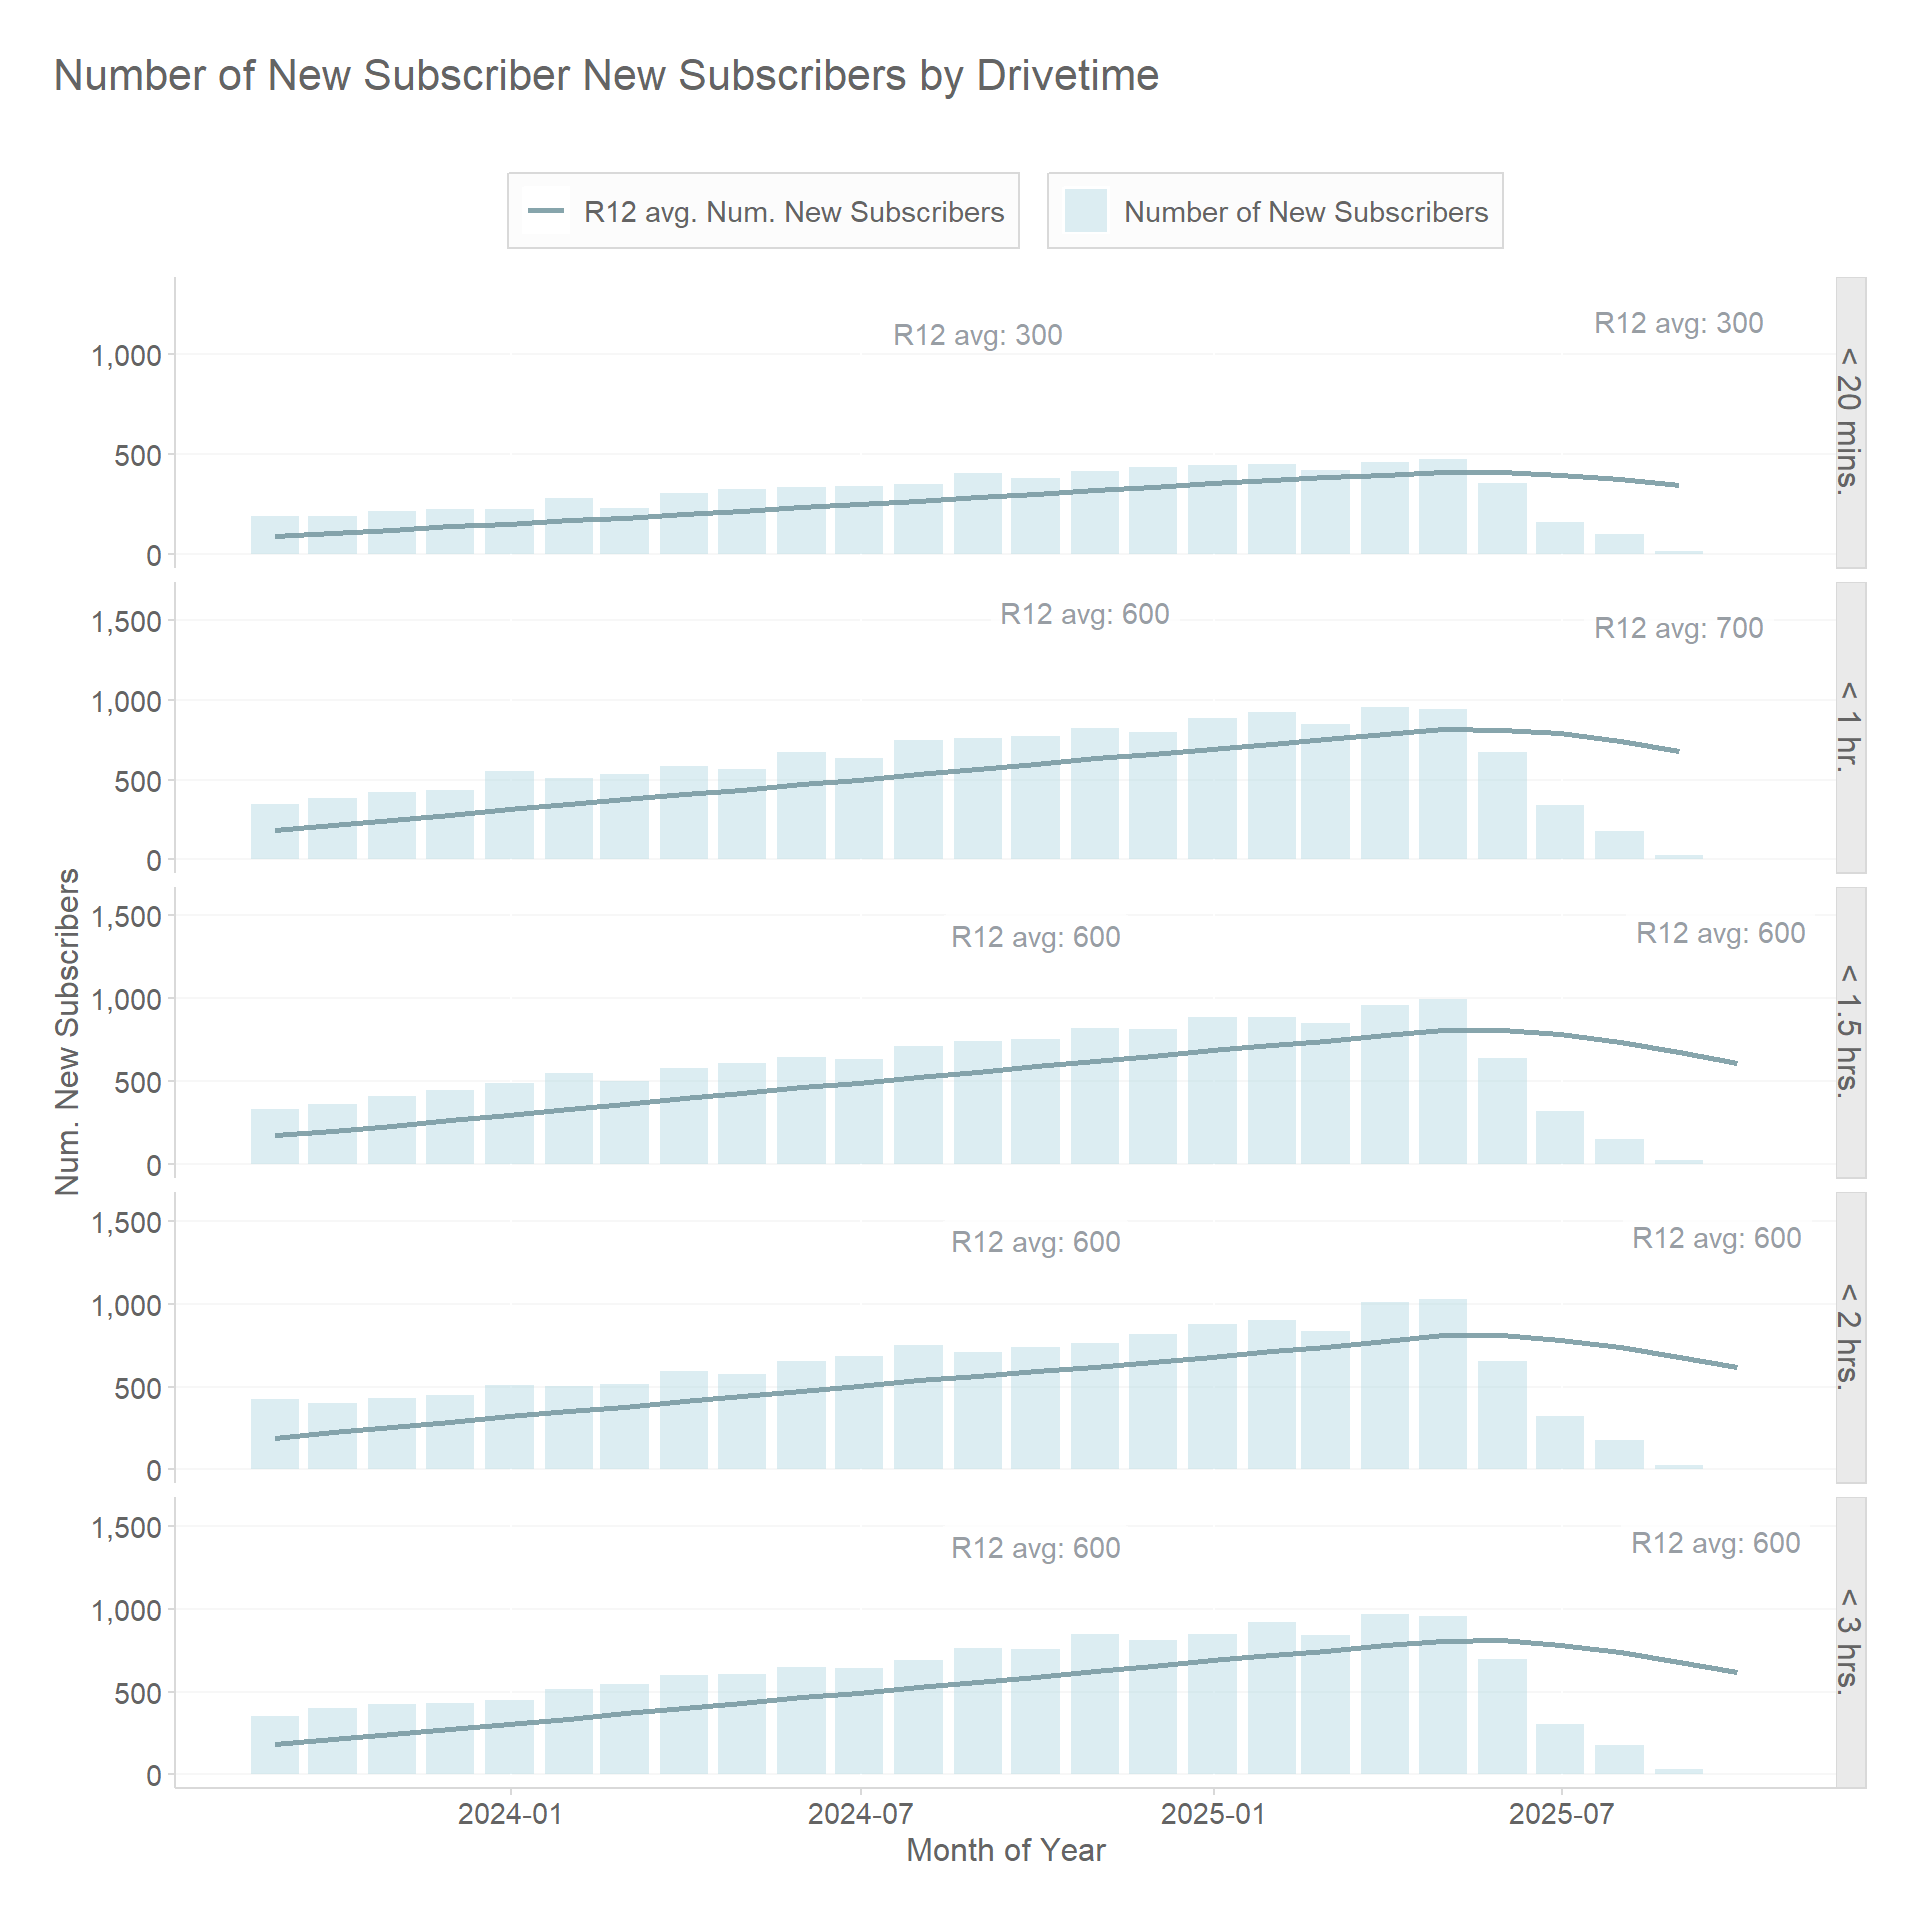

This screenshot's page, from the dashboard's own definition file:
{"tool":"tableau","page":{"name":"Dashboard TS","canvas":[1016,964],"ordinal":1},"visuals":[{"type":"blank","box":[8,8,162.6,38.7]},{"type":"worksheet","title":"Time Series","mark":"Bar","rows":["calculation","value","value"],"cols":["MONTH_END"],"box":[170.6,8,837.4,948]},{"type":"filter","title":"Time Series","param":"[federated.1atp5sv15v3jza1d6jdue160i6nr].[none:metric:nk]","box":[8,46.7,162.6,274.3]},{"type":"filter","title":"Time Series","param":"[federated.1atp5sv15v3jza1d6jdue160i6nr].[none:SOURCE_PROP_GROUP:nk]","box":[8,321,162.6,105]},{"type":"legend","title":"Time Series","param":"[federated.1atp5sv15v3jza1d6jdue160i6nr].[usr:Calculation_1957940001497505793:nk","box":[8,426,162.6,530]}]}

Visuals, with their boxes on the page's 1016x964 design canvas (x1, y1, x2, y2). These are canvas units, not pixel positions in the 1920x1920 screenshot, which may show the page scaled, cropped or inside an application window:
blank: <region>8, 8, 171, 47</region>
"Time Series" worksheet (Bar marks): <region>171, 8, 1008, 956</region>
"Time Series" filter: <region>8, 47, 171, 321</region>
"Time Series" filter: <region>8, 321, 171, 426</region>
"Time Series" legend: <region>8, 426, 171, 956</region>
